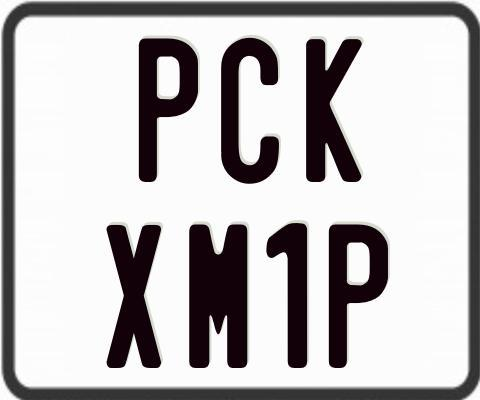1: (266, 223, 312, 368)
C: (219, 36, 281, 188)
K: (305, 37, 366, 182)
M: (186, 224, 245, 372)
P: (327, 221, 389, 369), (137, 36, 196, 186)
X: (105, 225, 161, 369)
